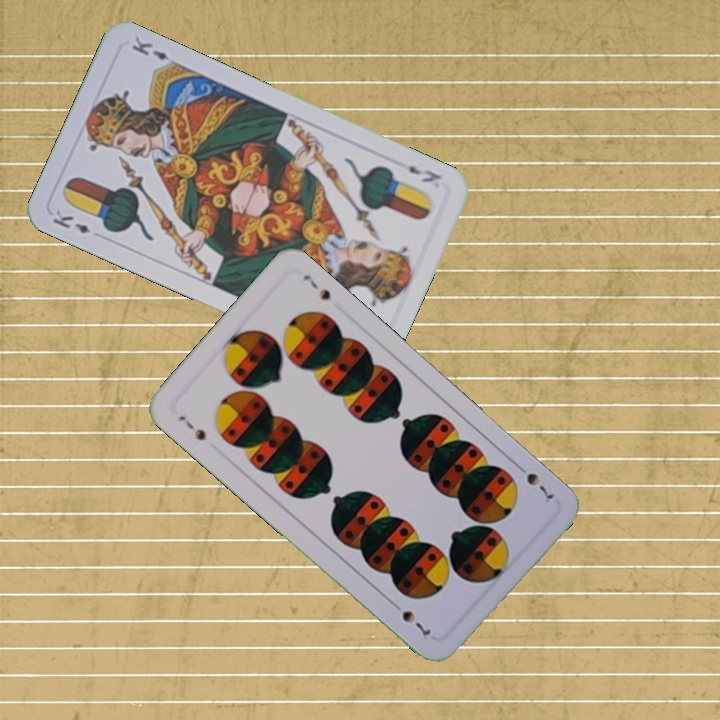EK: (48, 205, 93, 236), (404, 161, 445, 185)
S7: (511, 459, 557, 506), (174, 411, 208, 443)
